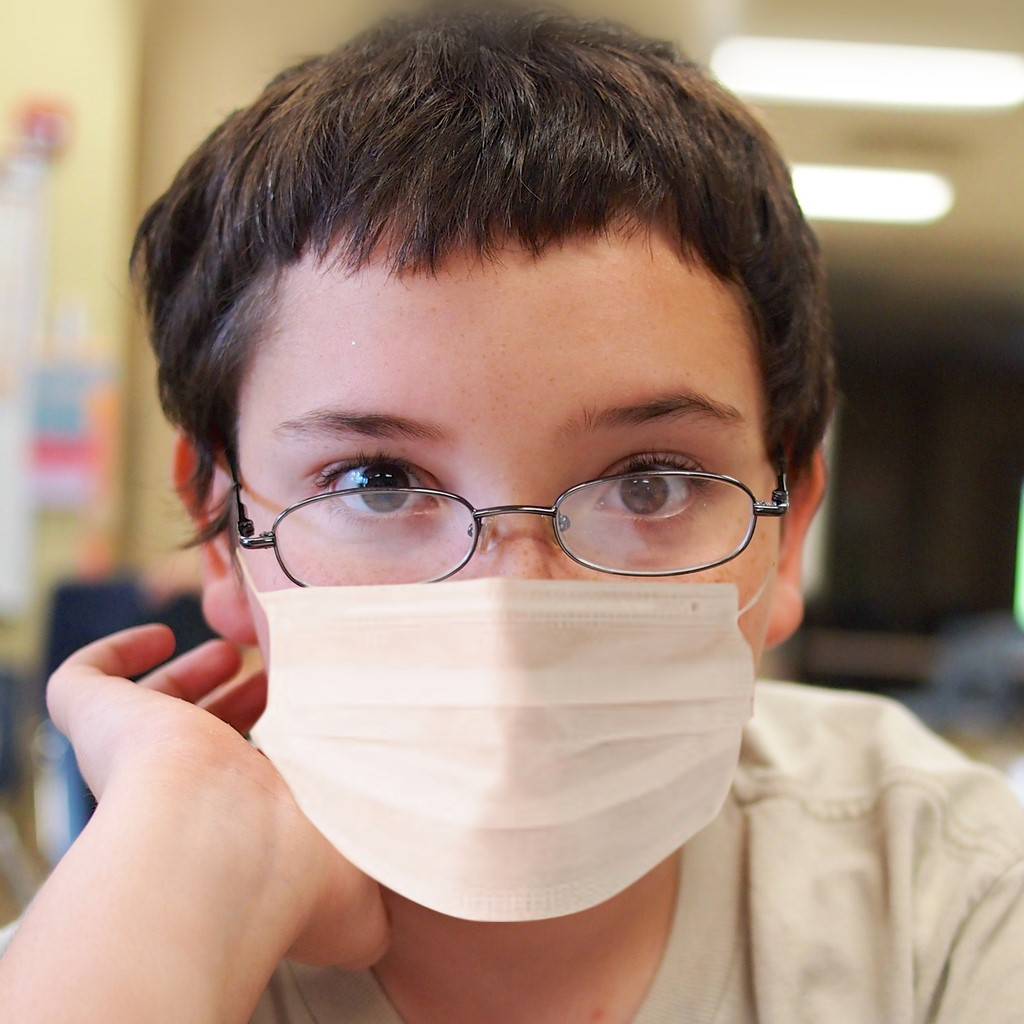con_mascara: (197, 142, 809, 903)
